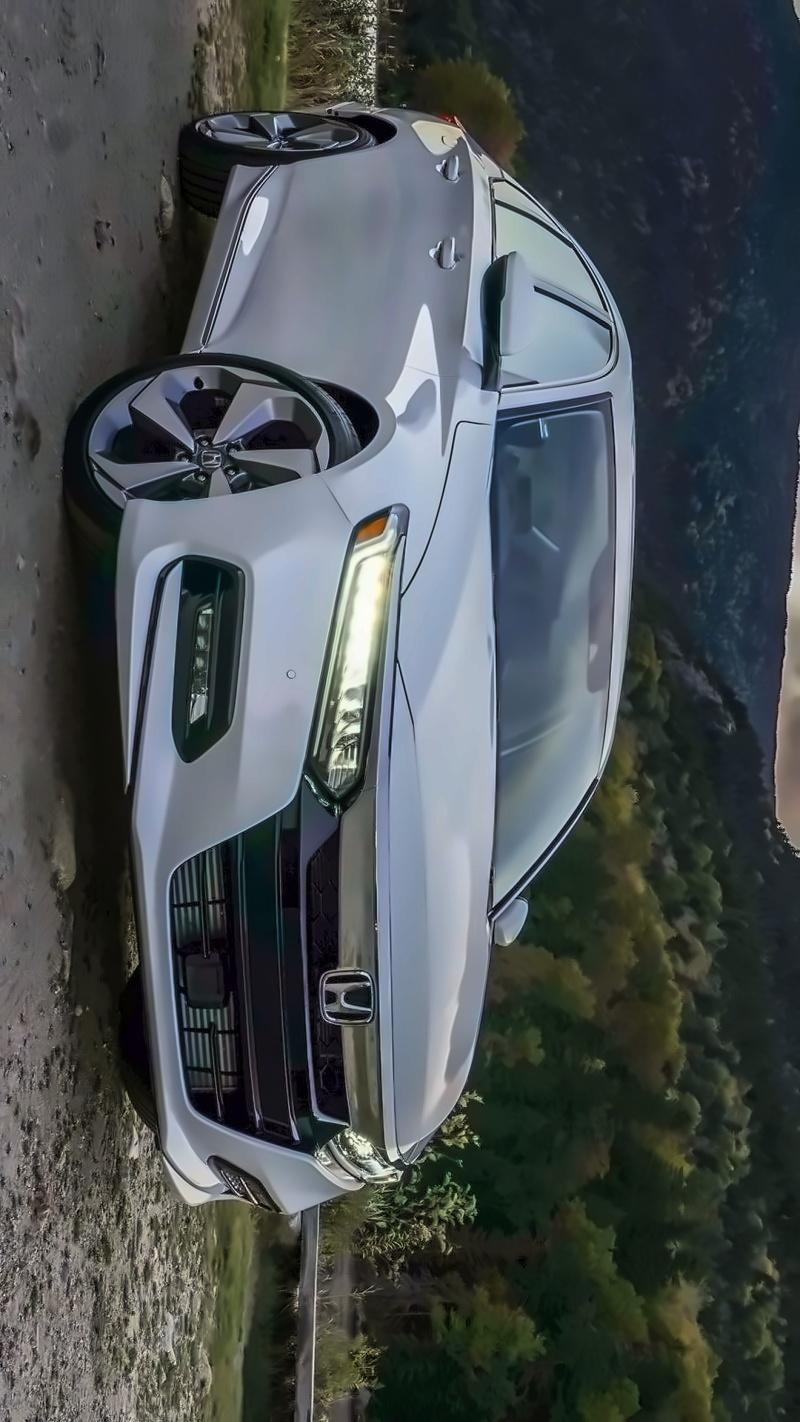Car hood: (371, 405, 510, 1165)
Driver-s door - -F-R-: (140, 253, 660, 414)
Fender - -F-R-: (205, 313, 509, 567)
Front bumper: (65, 453, 355, 1225)
Headlight - -L-: (305, 1135, 411, 1201)
Headlight - -R-: (303, 495, 411, 812)
Passenger-s door - -R-R-: (173, 145, 633, 327)
Side bumper - -R-: (153, 138, 306, 396)
Side mirror - -R-: (459, 236, 533, 407)
